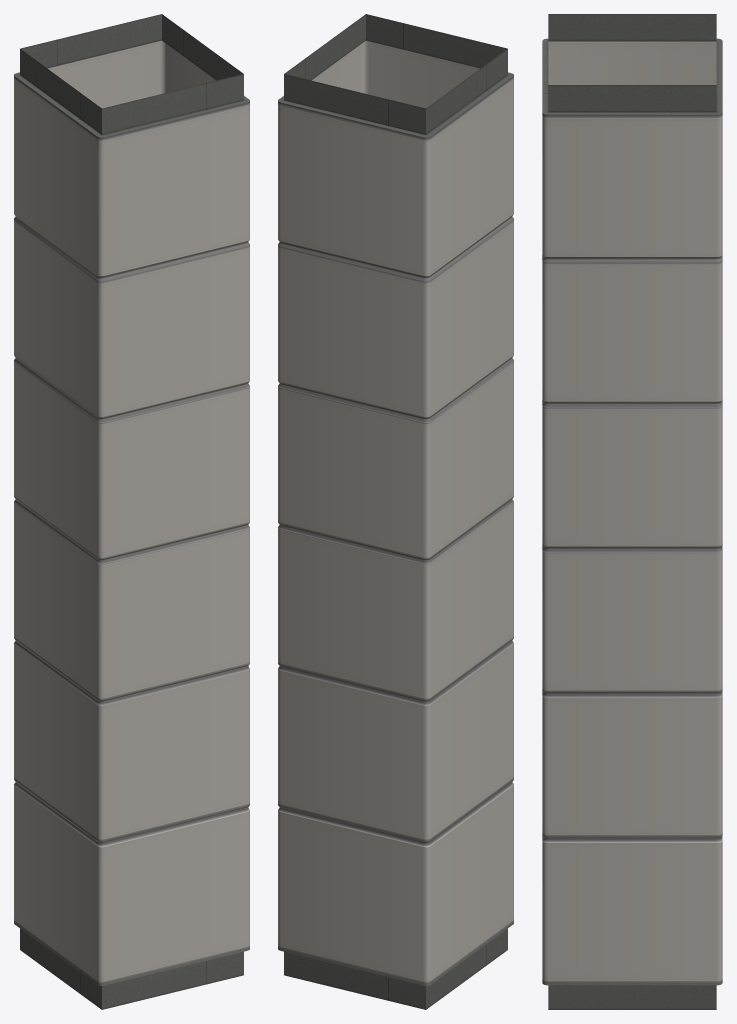
Rendered from column_Station_B001.FBX.
3 renders of one model, left to right at view 1: azimuth 30°, elevation 25°; view 2: azimuth 150°, elevation 25°; view 3: azimuth 270°, elevation 25°, orthographic. The views are drawn at different scales.
Visible parts, largest first — view 1: column_Station_B001; view 2: column_Station_B001; view 3: column_Station_B001.
Boxes of the visible parts, x1,y1,x2,y2 form: column_Station_B001: (14, 14, 249, 1009); column_Station_B001: (278, 14, 513, 1009); column_Station_B001: (542, 14, 722, 1009).
Size of what is drawn, in the model's own units: 60 by 60 by 340.
